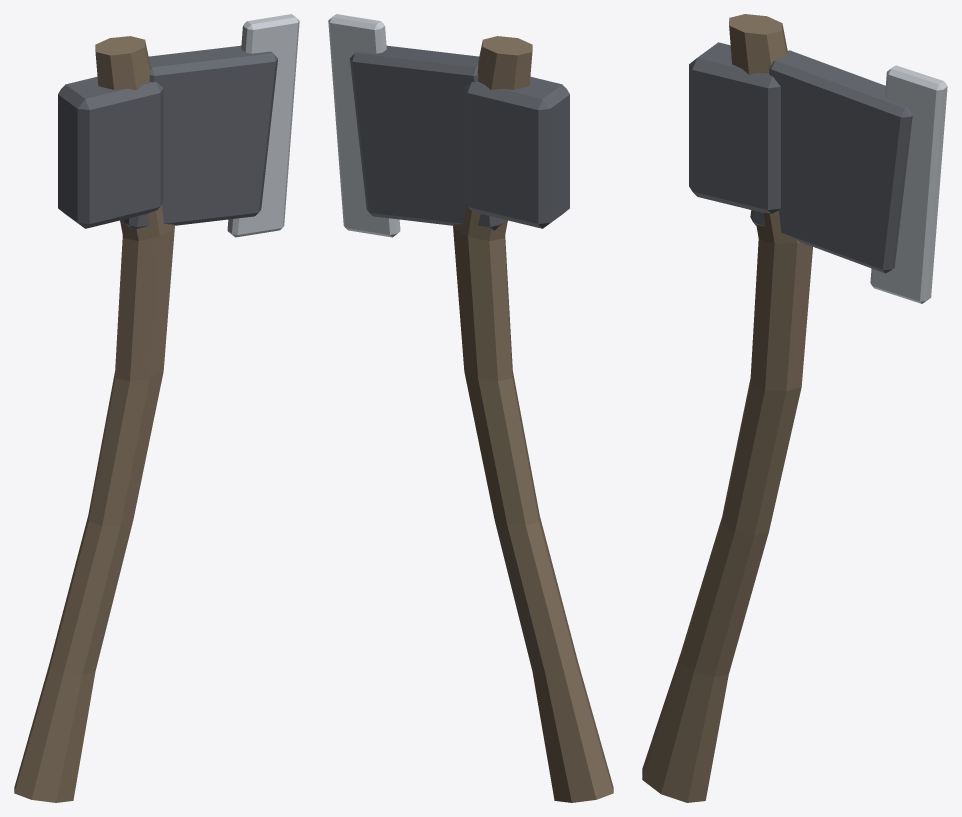
Rendered from prop_hand_axe.glb.
3 views of the same model, side by side, from view 1: azimuth 30°, elevation 25°; view 2: azimuth 150°, elevation 25°; view 3: azimuth 330°, elevation 25° (orthographic). The views are drawn at different scales.
Parts seen in each view (by area): view 1: Prop_HandAxe; view 2: Prop_HandAxe; view 3: Prop_HandAxe.
Boxes of the visible parts, x1,y1,x2,y2 form: Prop_HandAxe: [14, 14, 299, 802]; Prop_HandAxe: [328, 14, 613, 802]; Prop_HandAxe: [642, 14, 947, 802].
Bounding box in the file's own units: 0.2965 × 0.7379 × 0.052.
